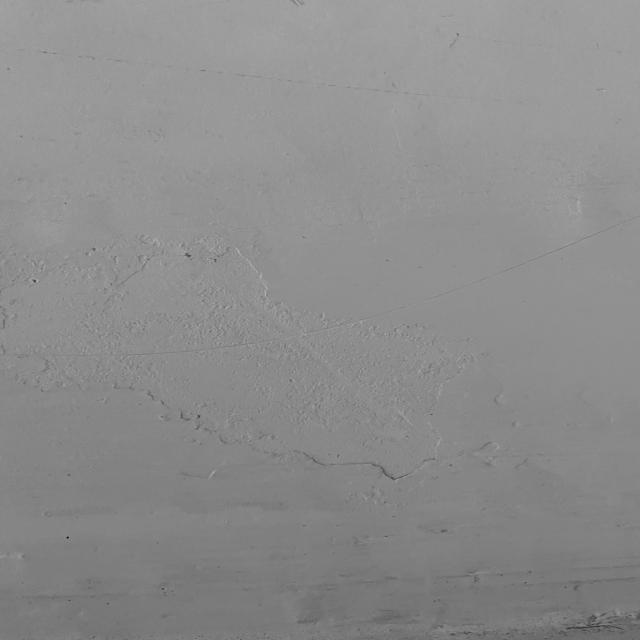rough and patchy surface: (22, 16, 622, 628)
